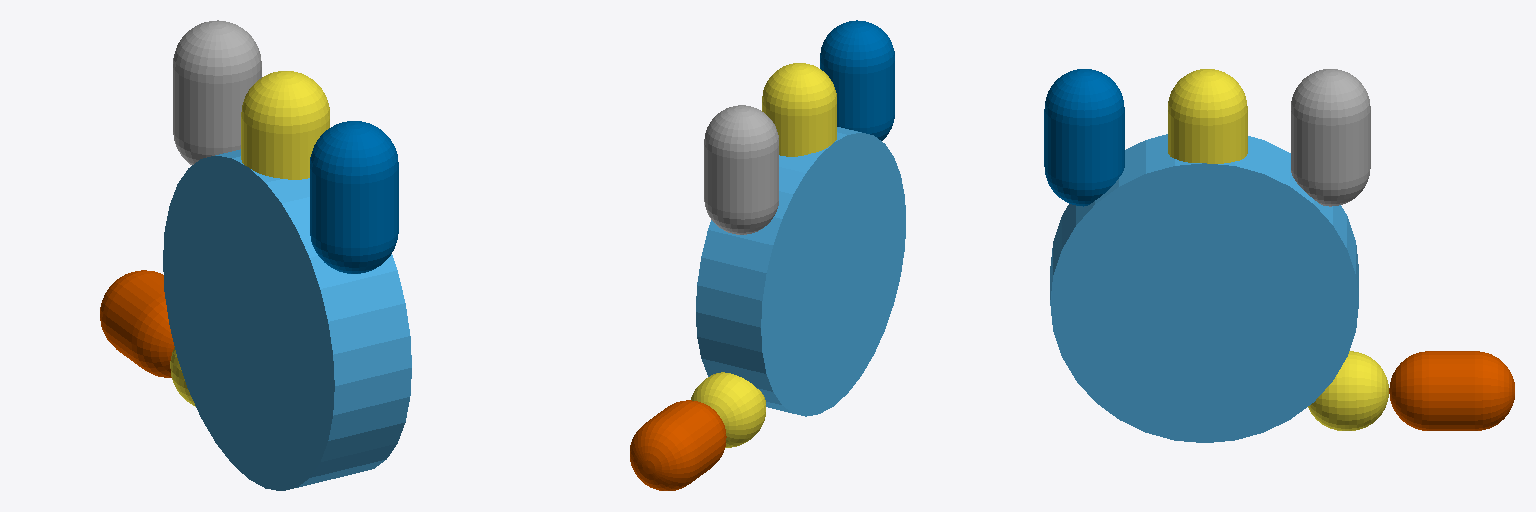
URDF robot description (DexterousHand):
<?xml version="1.0"?>
<robot name="DexterousHand">


    <link name="world"/>
    <joint name="world_to_palm" type="fixed">
        <parent link="world"/>
        <child link="palm"/>
        <origin xyz="0 0 0" rpy="0 0 0"/>
    </joint>
    <link name="palm">
        <inertial>
            <origin xyz="0 0 0.057" rpy="0 0 0"/>
            <mass value="0.30212892864"/>
            <inertia ixx="0.00049080844457568" ixy="0.0" ixz="0.0" iyy="0.00026746366246427523" iyz="0.0" izz="0.00026746366246427523"/>
        </inertial>
        <visual>
            <origin xyz="0 0 0.057" rpy="1.5708 0 1.5708"/>
            <geometry>
                <cylinder radius="0.057" length="0.0296"/>
            </geometry>
            <material name="default"/>
        </visual>
        <collision>
            <origin xyz="0 0 0.057" rpy="1.5708 0 1.5708"/>
            <geometry>
                <cylinder radius="0.057" length="0.0296"/>
            </geometry>
        </collision>
    </link>

    
    <joint name="thumb_joint1" type="revolute">
        <parent link="palm"/>
        <child link="thumb_base"/>
        <origin xyz="0.0029 0.0368 0.0157" rpy="-1.5708 -1.5708 0.0"/>
        <axis xyz="-1 0 0"/>
        <limit lower="-0.349" upper="2.094" effort="1.0" velocity="1.0"/>
    </joint>

    <link name="thumb_base"></link>

    <joint name="thumb_joint2" type="revolute">
        <parent link="thumb_base"/>
        <child link="thumb_proximal"/>
        <origin xyz="0.0 0.0 0.0" rpy="0.0 0.0 0.0"/>
        <axis xyz="0 0 1"/>
        <limit lower="-0.47" upper="2.443" effort="1.0" velocity="1.0"/>
    </joint>

    <link name="thumb_proximal">
        <inertial>
            <origin xyz="0 0 0.01565" rpy="0 0 0"/>
            <mass value="0.021538658803200002"/>
            <inertia ixx="2.9378910096388167e-06" ixy="0.0" ixz="0.0" 
            iyy="2.9378910096388167e-06" iyz="0.0" izz="2.358913912126464e-06"/>
        </inertial>
        <visual>
            <origin xyz="0 0 0.01565" rpy="0 0 0"/>
            <geometry>
                <cylinder radius="0.0148" length="0.0017000000000000001"/>
            </geometry>
            <material name="default"/>
        </visual>
        <visual>
            <origin xyz="0 0 0.0148" rpy="0 0 0"/>
            <geometry>
                <sphere radius="0.0148"/>
            </geometry>
            <material name="default"/>
        </visual>
        <visual>
            <origin xyz="0 0 0.0165" rpy="0 0 0"/>
            <geometry>
                <sphere radius="0.0148"/>
            </geometry>
            <material name="default"/>
        </visual>
        <collision>
            <origin xyz="0 0 0.01565" rpy="0 0 0"/>
            <geometry>
                <cylinder radius="0.0148" length="0.0017000000000000001"/>
            </geometry>
        </collision>
        <collision>
            <origin xyz="0 0 0.0148" rpy="0 0 0"/>
            <geometry>
                <sphere radius="0.0148"/>
            </geometry>
        </collision>
        <collision>
            <origin xyz="0 0 0.0165" rpy="0 0 0"/>
            <geometry>
                <sphere radius="0.0148"/>
            </geometry>
        </collision>
    </link>

    <joint name="thumb_joint3" type="revolute">
        <parent link="thumb_proximal"/>
        <child link="thumb_knuckle"/>
        <origin xyz="0.0 0.0 0.0313" rpy="0.0 0.0 0.0"/>
        <axis xyz="1 0 0"/>
        <limit lower="0.0" upper="0.0" effort="1.0" velocity="1.0"/>
    </joint>

    <link name="thumb_knuckle"></link>

    <joint name="thumb_joint4" type="revolute">
        <parent link="thumb_knuckle"/>
        <child link="thumb_middle"/>
        <origin xyz="0 0 0" rpy="0 0 0"/> 
        <axis xyz="0 1 0"/>
        <limit lower="-1.2" upper="1.9" effort="1.0" velocity="1.0"/>
    </joint>

    <link name="thumb_middle">
        <inertial>
            <origin xyz="0 0 0.0233" rpy="0 0 0"/>
            <mass value="0.032067140582400004"/>
            <inertia ixx="7.5589732685519385e-06" ixy="0.0" ixz="0.0" 
            iyy="7.5589732685519385e-06" iyz="0.0" izz="3.5119932365844485e-06"/>
        </inertial>
        <visual>
            <origin xyz="0 0 0.0233" rpy="0 0 0"/>
            <geometry>
                <cylinder radius="0.0148" length="0.017"/>
            </geometry>
            <material name="default"/>
        </visual>
        <visual>
            <origin xyz="0 0 0.0148" rpy="0 0 0"/>
            <geometry>
                <sphere radius="0.0148"/>
            </geometry>
            <material name="default"/>
        </visual>
        <visual>
            <origin xyz="0 0 0.0318" rpy="0 0 0"/>
            <geometry>
                <sphere radius="0.0148"/>
            </geometry>
            <material name="default"/>
        </visual>
        <collision>
            <origin xyz="0 0 0.0233" rpy="0 0 0"/>
            <geometry>
                <cylinder radius="0.0148" length="0.017"/>
            </geometry>
        </collision>
        <collision>
            <origin xyz="0 0 0.0148" rpy="0 0 0"/>
            <geometry>
                <sphere radius="0.0148"/>
            </geometry>
        </collision>
        <collision>
            <origin xyz="0 0 0.0318" rpy="0 0 0"/>
            <geometry>
                <sphere radius="0.0148"/>
            </geometry>
        </collision>
    </link>

    <joint name="thumb_joint5" type="revolute">
        <parent link="thumb_middle"/>
        <child link="thumb_distal"/>
        <origin xyz="0 0 0.0466" rpy="0 0 0"/> 
        <axis xyz="0 1 0"/>
        <limit lower="0.0" upper="0.0" effort="1.0" velocity="1.0"/>
    </joint>

    <link name="thumb_distal">
    </link>

    
    <joint name="index_joint1" type="revolute">
        <parent link="palm"/>
        <child link="index_proximal"/>
        <origin xyz="0.0 0.0465 0.091" rpy="0.0 0.0 0.0"/>
        <axis xyz="0 1 0"/>
        <limit lower="-0.314" upper="2.23" effort="1.0" velocity="1.0"/>
    </joint>

    <link name="index_proximal">
        <inertial>
            <origin xyz="0 0 0.02655" rpy="0 0 0"/>
            <mass value="0.036540024998400006"/>
            <inertia ixx="1.058665009272394e-05" ixy="0.0" ixz="0.0" 
            iyy="1.058665009272394e-05" iyz="0.0" izz="4.001863537824769e-06"/>
        </inertial>
        <visual>
            <origin xyz="0 0 0.02655" rpy="0 0 0"/>
            <geometry>
                <cylinder radius="0.0148" length="0.0235"/>
            </geometry>
            <material name="default"/>
        </visual>
        <visual>
            <origin xyz="0 0 0.0148" rpy="0 0 0"/>
            <geometry>
                <sphere radius="0.0148"/>
            </geometry>
            <material name="default"/>
        </visual>
        <visual>
            <origin xyz="0 0 0.0383" rpy="0 0 0"/>
            <geometry>
                <sphere radius="0.0148"/>
            </geometry>
            <material name="default"/>
        </visual>
        <collision>
            <origin xyz="0 0 0.02655" rpy="0 0 0"/>
            <geometry>
                <cylinder radius="0.0148" length="0.0235"/>
            </geometry>
        </collision>
        <collision>
            <origin xyz="0 0 0.0148" rpy="0 0 0"/>
            <geometry>
                <sphere radius="0.0148"/>
            </geometry>
        </collision>
        <collision>
            <origin xyz="0 0 0.0383" rpy="0 0 0"/>
            <geometry>
                <sphere radius="0.0148"/>
            </geometry>
        </collision>
    </link>

    <joint name="index_joint2" type="revolute">
        <parent link="index_proximal"/>
        <child link="index_dummy"/>
        <origin xyz="0.0 0.0 0.038" rpy="0.0 0.0 0.0"/>
        <axis xyz="0 1 0"/>
        <limit lower="0.0" upper="0.0" effort="1.0" velocity="1.0"/>
    </joint>

    <link name="index_dummy"></link>

    <joint name="index_joint3" type="revolute">
        <parent link="index_dummy"/>
        <child link="index_middle"/>
        <origin xyz="0 0 0.015100000000000002" rpy="0 0 0"/>
        <axis xyz="0 1 0"/>
        <limit lower="0.0" upper="0.0" effort="1.0" velocity="1.0"/>
    </joint>

    <link name="index_middle">
    </link>

    <joint name="index_joint4" type="revolute">
        <parent link="index_middle"/>
        <child link="index_distal"/>
        <origin xyz="0 0 0" rpy="0 0 0"/> 
        <axis xyz="0 1 0"/>
        <limit lower="0.0" upper="0.0" effort="1.0" velocity="1.0"/>
    </joint>

    <link name="index_distal">
    </link>

    
    <joint name="middle_joint1" type="revolute">
        <parent link="palm"/>
        <child link="middle_proximal"/>
        <origin xyz="0.0 0.0011 0.091" rpy="0.0 0.0 0.0"/>
        <axis xyz="0 1 0"/>
        <limit lower="-0.314" upper="2.23" effort="1.0" velocity="1.0"/>
    </joint>

    <link name="middle_proximal">
        <inertial>
            <origin xyz="0 0 0.02655" rpy="0 0 0"/>
            <mass value="0.036540024998400006"/>
            <inertia ixx="1.058665009272394e-05" ixy="0.0" ixz="0.0" 
            iyy="1.058665009272394e-05" iyz="0.0" izz="4.001863537824769e-06"/>
        </inertial>
        <visual>
            <origin xyz="0 0 0.02655" rpy="0 0 0"/>
            <geometry>
                <cylinder radius="0.0148" length="0.0235"/>
            </geometry>
            <material name="default"/>
        </visual>
        <visual>
            <origin xyz="0 0 0.0148" rpy="0 0 0"/>
            <geometry>
                <sphere radius="0.0148"/>
            </geometry>
            <material name="default"/>
        </visual>
        <visual>
            <origin xyz="0 0 0.0383" rpy="0 0 0"/>
            <geometry>
                <sphere radius="0.0148"/>
            </geometry>
            <material name="default"/>
        </visual>
        <collision>
            <origin xyz="0 0 0.02655" rpy="0 0 0"/>
            <geometry>
                <cylinder radius="0.0148" length="0.0235"/>
            </geometry>
        </collision>
        <collision>
            <origin xyz="0 0 0.0148" rpy="0 0 0"/>
            <geometry>
                <sphere radius="0.0148"/>
            </geometry>
        </collision>
        <collision>
            <origin xyz="0 0 0.0383" rpy="0 0 0"/>
            <geometry>
                <sphere radius="0.0148"/>
            </geometry>
        </collision>
    </link>

    <joint name="middle_joint2" type="revolute">
        <parent link="middle_proximal"/>
        <child link="middle_dummy"/>
        <origin xyz="0.0 0.0 0.038" rpy="0.0 0.0 0.0"/>
        <axis xyz="0 1 0"/>
        <limit lower="0.0" upper="0.0" effort="1.0" velocity="1.0"/>
    </joint>

    <link name="middle_dummy"></link>

    <joint name="middle_joint3" type="revolute">
        <parent link="middle_dummy"/>
        <child link="middle_middle"/>
        <origin xyz="0 0 0.015100000000000002" rpy="0 0 0"/>
        <axis xyz="0 1 0"/>
        <limit lower="0.0" upper="0.0" effort="1.0" velocity="1.0"/>
    </joint>

    <link name="middle_middle">
    </link>

    <joint name="middle_joint4" type="revolute">
        <parent link="middle_middle"/>
        <child link="middle_distal"/>
        <origin xyz="0 0 0" rpy="0 0 0"/> 
        <axis xyz="0 1 0"/>
        <limit lower="0.0" upper="0.0" effort="1.0" velocity="1.0"/>
    </joint>

    <link name="middle_distal">
    </link>

    
    <joint name="ring_joint1" type="revolute">
        <parent link="palm"/>
        <child link="ring_proximal"/>
        <origin xyz="0.0 0.0 0.0" rpy="0.0 0.0 0.0"/>
        <axis xyz="1 0 0"/>
        <limit lower="0.0" upper="0.0" effort="1.0" velocity="1.0"/>
    </joint>

    <link name="ring_proximal">
    </link>

    <joint name="ring_joint2" type="revolute">
        <parent link="ring_proximal"/>
        <child link="ring_dummy"/>
        <origin xyz="0.0 0.0 0.0" rpy="0.0 0.0 0.0"/>
        <axis xyz="0 1 0"/>
        <limit lower="0.0" upper="0.0" effort="1.0" velocity="1.0"/>
    </joint>

    <link name="ring_dummy"></link>

    <joint name="ring_joint3" type="revolute">
        <parent link="ring_dummy"/>
        <child link="ring_middle"/>
        <origin xyz="0 0 0" rpy="0 0 0"/>
        <axis xyz="0 1 0"/>
        <limit lower="0.0" upper="0.0" effort="1.0" velocity="1.0"/>
    </joint>

    <link name="ring_middle">
    </link>

    <joint name="ring_joint4" type="revolute">
        <parent link="ring_middle"/>
        <child link="ring_distal"/>
        <origin xyz="0 0 0" rpy="0 0 0"/> 
        <axis xyz="0 1 0"/>
        <limit lower="0.0" upper="0.0" effort="1.0" velocity="1.0"/>
    </joint>

    <link name="ring_distal">
    </link>

    
    <joint name="little_joint0" type="revolute">
        <parent link="palm"/>
        <child link="little_base"/>
        <origin xyz="0.0 0.0 0.0" rpy="0.0 0.0 0.0"/>
        <axis xyz="0 1 0"/>
        <limit lower="0.0" upper="0.0" effort="1.0" velocity="1.0"/>
    </joint>

    <link name="little_base"></link>

    <joint name="little_joint1" type="revolute">
        <parent link="little_base"/>
        <child link="little_proximal"/>
        <origin xyz="0.0 -0.0443 0.091" rpy="-0.0 -0.0 -0.0"/>
        <axis xyz="0 1 0"/>
        <limit lower="-0.314" upper="2.23" effort="1.0" velocity="1.0"/>
    </joint>

    <link name="little_proximal">
        <inertial>
            <origin xyz="0 0 0.02655" rpy="0 0 0"/>
            <mass value="0.036540024998400006"/>
            <inertia ixx="1.058665009272394e-05" ixy="0.0" ixz="0.0" 
            iyy="1.058665009272394e-05" iyz="0.0" izz="4.001863537824769e-06"/>
        </inertial>
        <visual>
            <origin xyz="0 0 0.02655" rpy="0 0 0"/>
            <geometry>
                <cylinder radius="0.0148" length="0.0235"/>
            </geometry>
            <material name="default"/>
        </visual>
        <visual>
            <origin xyz="0 0 0.0148" rpy="0 0 0"/>
            <geometry>
                <sphere radius="0.0148"/>
            </geometry>
            <material name="default"/>
        </visual>
        <visual>
            <origin xyz="0 0 0.0383" rpy="0 0 0"/>
            <geometry>
                <sphere radius="0.0148"/>
            </geometry>
            <material name="default"/>
        </visual>
        <collision>
            <origin xyz="0 0 0.02655" rpy="0 0 0"/>
            <geometry>
                <cylinder radius="0.0148" length="0.0235"/>
            </geometry>
        </collision>
        <collision>
            <origin xyz="0 0 0.0148" rpy="0 0 0"/>
            <geometry>
                <sphere radius="0.0148"/>
            </geometry>
        </collision>
        <collision>
            <origin xyz="0 0 0.0383" rpy="0 0 0"/>
            <geometry>
                <sphere radius="0.0148"/>
            </geometry>
        </collision>
    </link>

    <joint name="little_joint2" type="revolute">
        <parent link="little_proximal"/>
        <child link="little_dummy"/>
        <origin xyz="0.0 0.0 0.038" rpy="0.0 0.0 0.0"/>
        <axis xyz="0 1 0"/>
        <limit lower="0.0" upper="0.0" effort="1.0" velocity="1.0"/>
    </joint>

    <link name="little_dummy"></link>

    <joint name="little_joint3" type="revolute">
        <parent link="little_dummy"/>
        <child link="little_middle"/>
        <origin xyz="0 0 0.015100000000000002" rpy="0 0 0"/>
        <axis xyz="0 1 0"/>
        <limit lower="0.0" upper="0.0" effort="1.0" velocity="1.0"/>
    </joint>

    <link name="little_middle">
    </link>

    <joint name="little_joint4" type="revolute">
        <parent link="little_middle"/>
        <child link="little_distal"/>
        <origin xyz="0 0 0" rpy="0 0 0"/>
        <axis xyz="0 1 0"/>
        <limit lower="0.0" upper="0.0" effort="1.0" velocity="1.0"/>
    </joint>

    <link name="little_distal">
    </link>

</robot>

--- What the picture shows (computed from the rendered views, not written in the file) ---
Views: 3 orthographic renders of the robot side by side, from view 1: azimuth 30°, elevation 25°; view 2: azimuth 150°, elevation 25°; view 3: azimuth 270°, elevation 25°.
Model DexterousHand with 24 links and 23 joints (22 revolute, 1 fixed), rooted at world, posed every joint at zero.
Links seen in each view (by area): view 1: palm, little_proximal, index_proximal, middle_proximal, thumb_middle; view 2: palm, index_proximal, little_proximal, thumb_middle, middle_proximal, thumb_proximal; view 3: palm, index_proximal, little_proximal, thumb_middle, middle_proximal, thumb_proximal.
Boxes of the visible links, bbox=[...] form: palm: bbox=[163, 149, 411, 490]; little_proximal: bbox=[310, 121, 398, 273]; index_proximal: bbox=[173, 20, 261, 164]; middle_proximal: bbox=[241, 71, 329, 179]; thumb_middle: bbox=[100, 270, 174, 377]; palm: bbox=[696, 127, 905, 416]; index_proximal: bbox=[704, 105, 778, 234]; little_proximal: bbox=[820, 20, 894, 140]; thumb_middle: bbox=[630, 400, 726, 490]; middle_proximal: bbox=[762, 63, 836, 156]; thumb_proximal: bbox=[691, 372, 765, 447]; palm: bbox=[1050, 134, 1358, 442]; index_proximal: bbox=[1291, 69, 1370, 206]; little_proximal: bbox=[1044, 69, 1124, 206]; thumb_middle: bbox=[1389, 351, 1514, 430]; middle_proximal: bbox=[1168, 69, 1247, 163]; thumb_proximal: bbox=[1308, 351, 1388, 430].
Bounding box of the posed robot: 0.0325 × 0.1738 × 0.1441 m (x, y, z).
Geometry: primitives only (box / cylinder / sphere), no mesh files.
